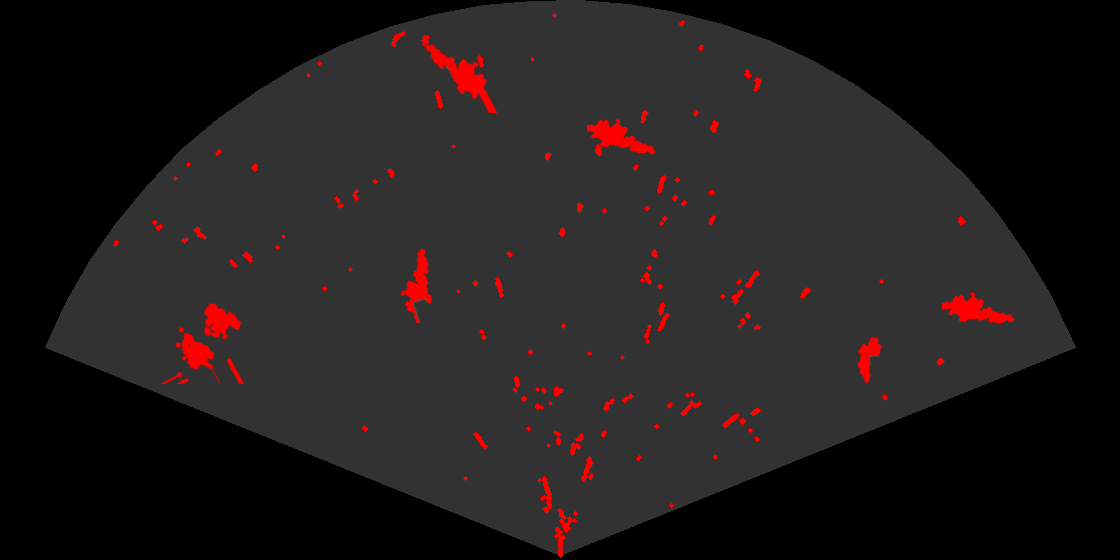AUV: (856, 335, 883, 385)
cage: (160, 301, 246, 384)
frogman: (423, 42, 499, 113), (587, 117, 656, 156), (399, 247, 434, 323), (942, 290, 1016, 325)
